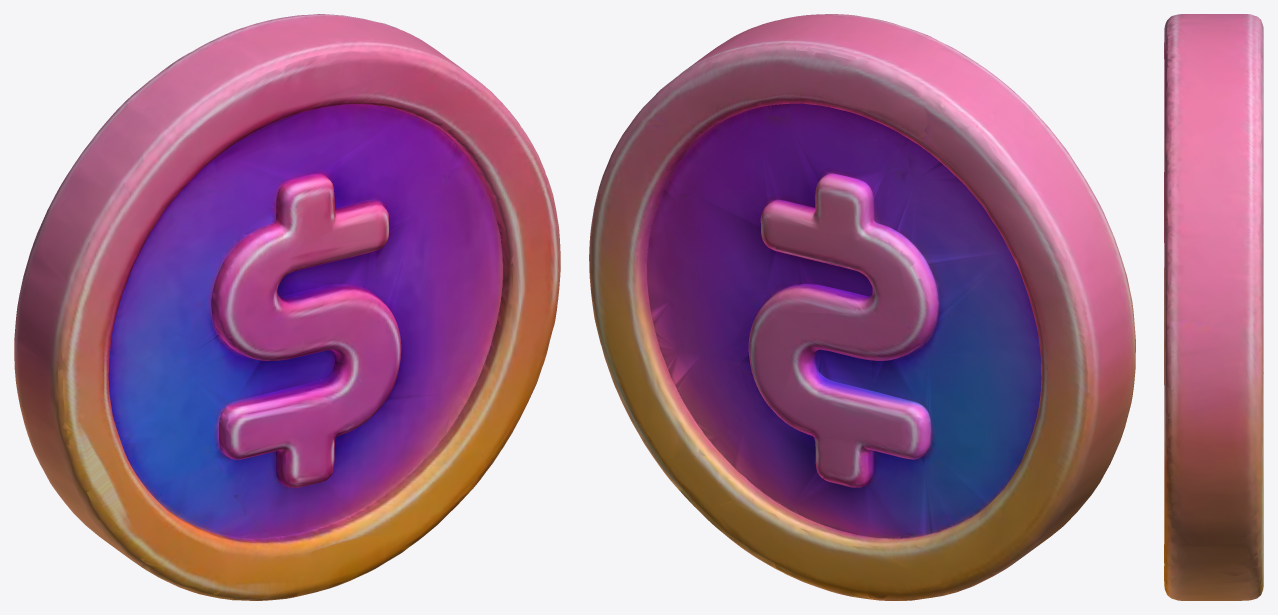
File: coin__main__r2__p2.glb
The picture shows the model from 3 angles, left to right: view 1: azimuth 30°, elevation 25°; view 2: azimuth 150°, elevation 25°; view 3: azimuth 270°, elevation 25°; orthographic projection. The views are drawn at different scales.
Visible parts, largest first — view 1: model; view 2: model; view 3: model.
Boxes of the visible parts, box(x1,y1,x2,y2) form: model: box(14, 14, 560, 600); model: box(589, 14, 1135, 600); model: box(1164, 14, 1263, 600).
Bounding box in the file's own units: 1.79 × 1.84 × 0.3107.
1 material, 1 textured.
